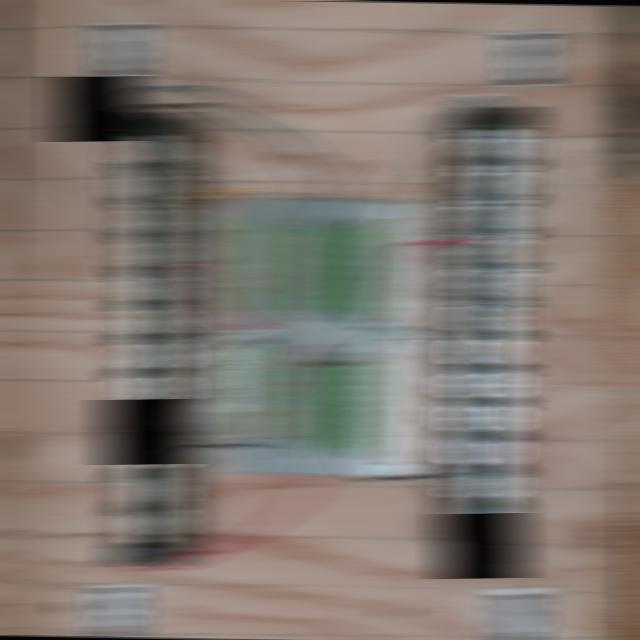Flathead_Block: (108, 111, 190, 565)
Phillips_Block: (449, 106, 537, 562)
Terminal_1: (236, 219, 274, 312), (233, 343, 270, 434)
Terminal_2: (317, 364, 355, 453), (293, 224, 331, 311), (291, 363, 328, 451), (321, 225, 358, 312), (350, 227, 386, 315)
